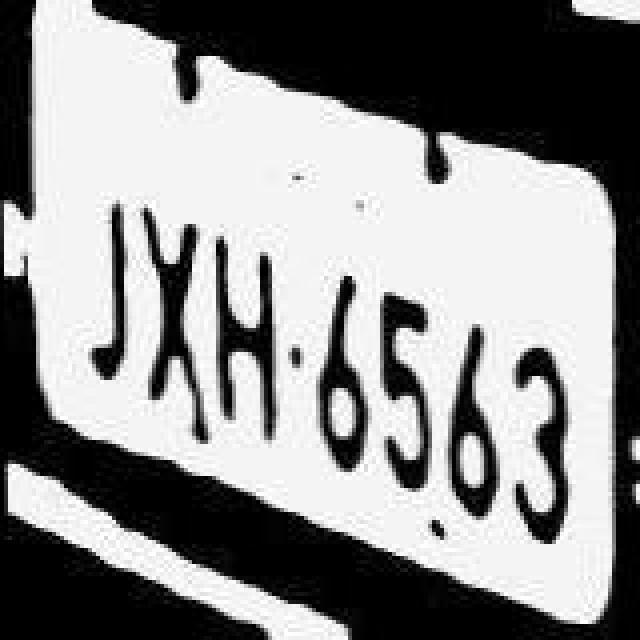3: (512, 302, 588, 562)
5: (370, 254, 438, 506)
6: (308, 238, 372, 498), (444, 290, 508, 526)
H: (210, 218, 294, 446)
J: (78, 156, 138, 404)
X: (132, 196, 204, 428)
